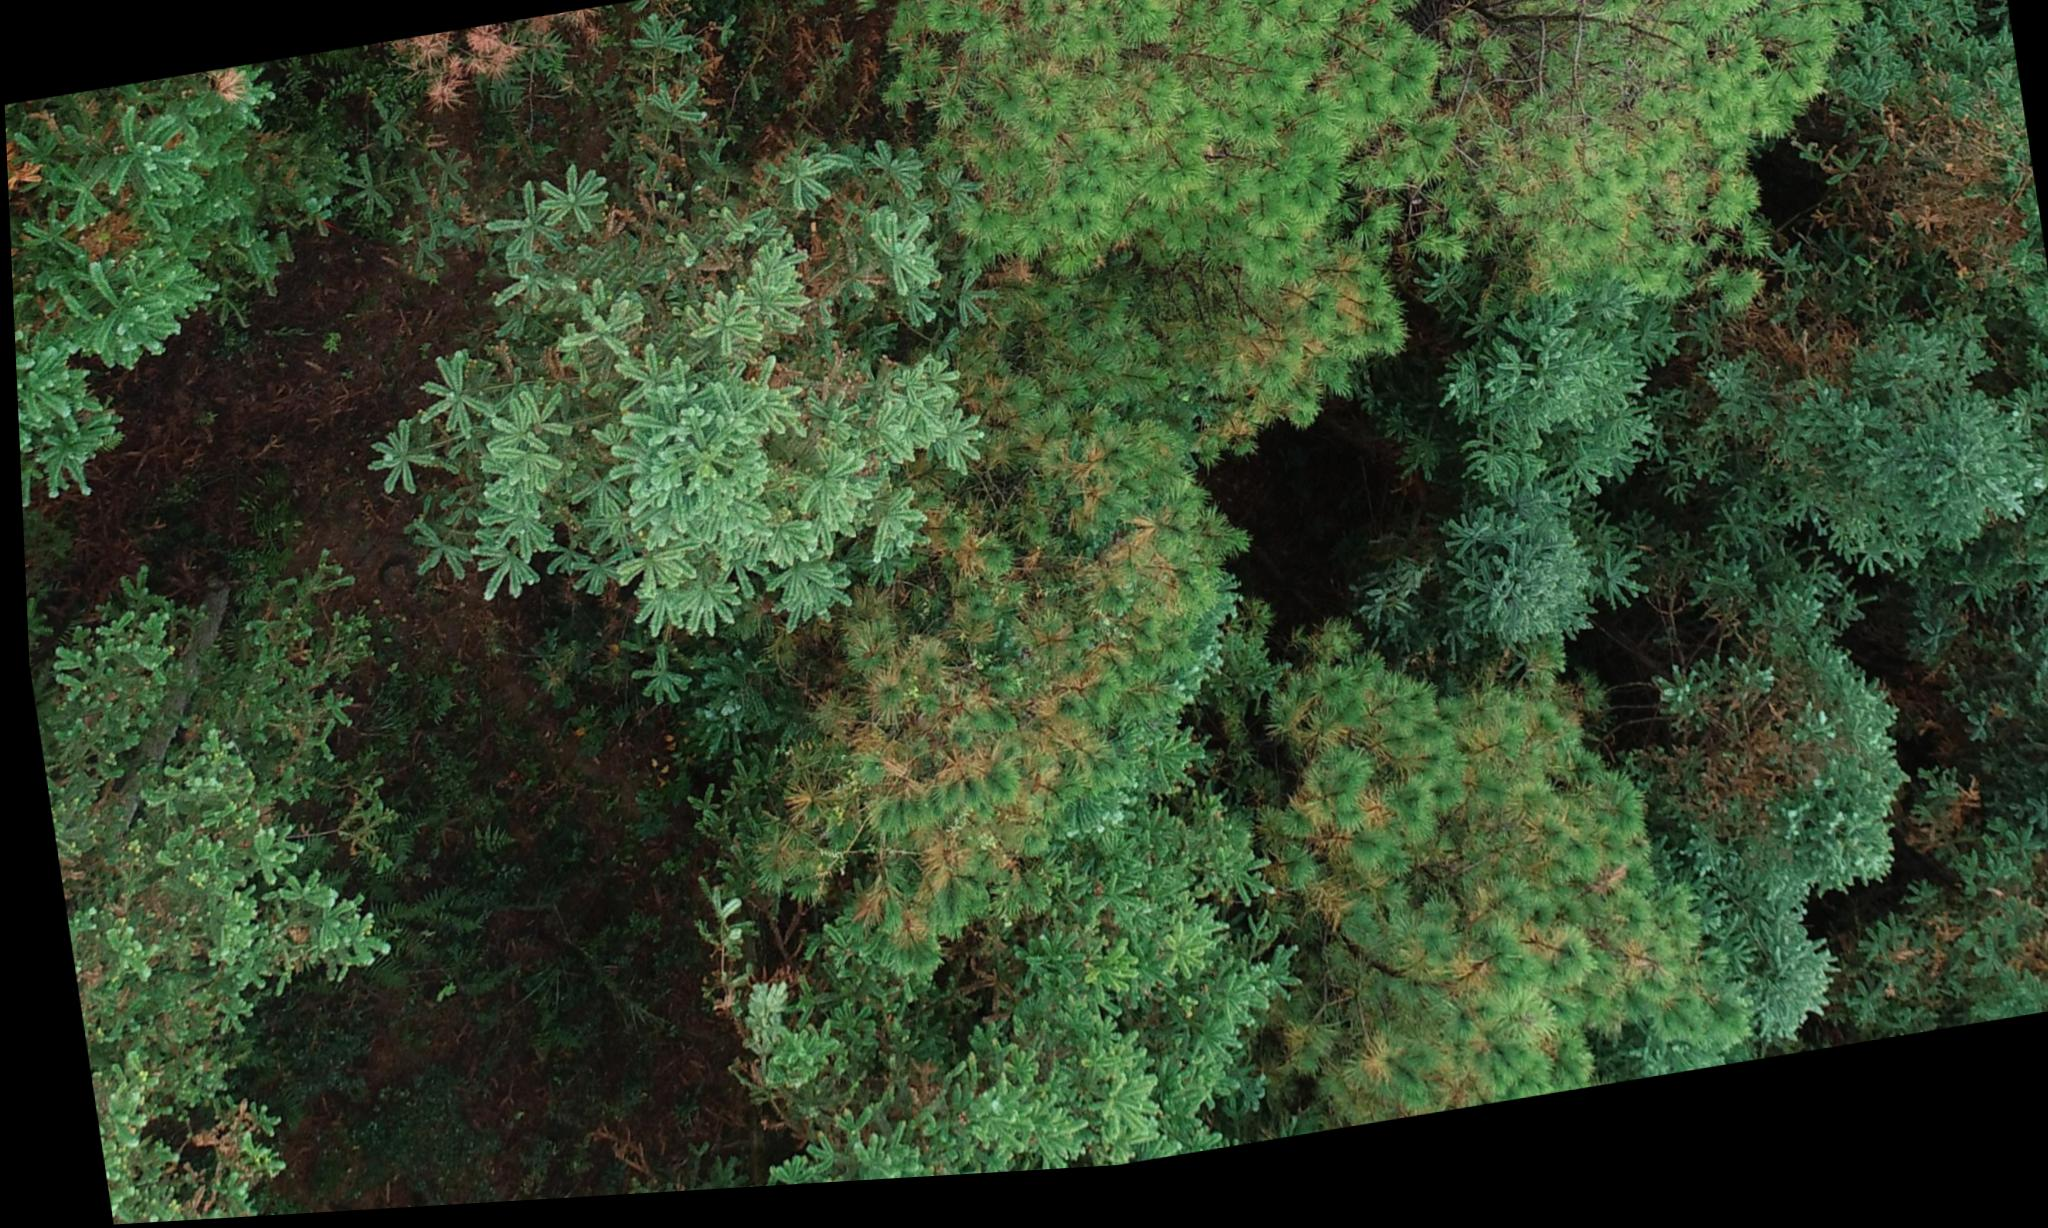light: (710, 456, 1202, 977), (1251, 618, 1661, 1137), (1085, 0, 1476, 487), (1479, 0, 1836, 346)
